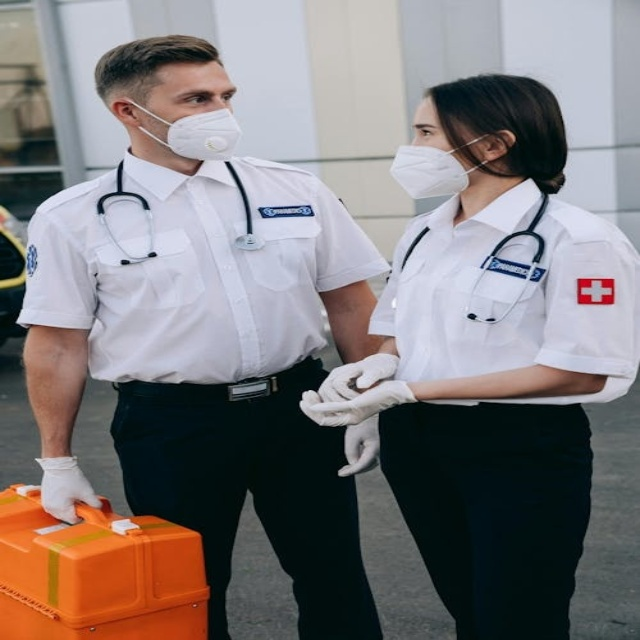Guantes: (300, 376, 417, 433), (33, 456, 104, 524), (317, 352, 398, 403), (337, 416, 382, 477)
Mascara: (134, 101, 242, 161), (389, 136, 483, 198)
Sin_gafas: (159, 83, 239, 108), (406, 118, 440, 139)
